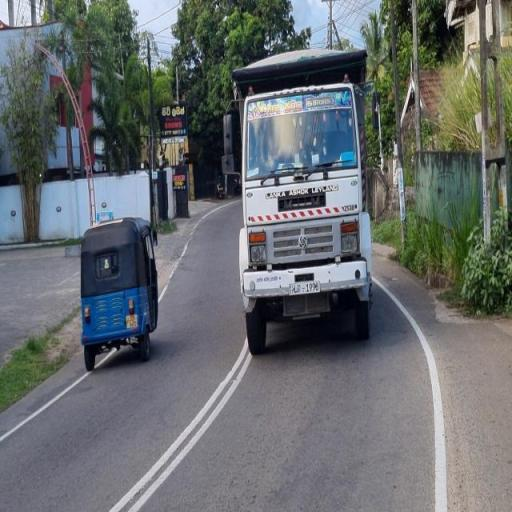double_white_line: (108, 341, 250, 510)
